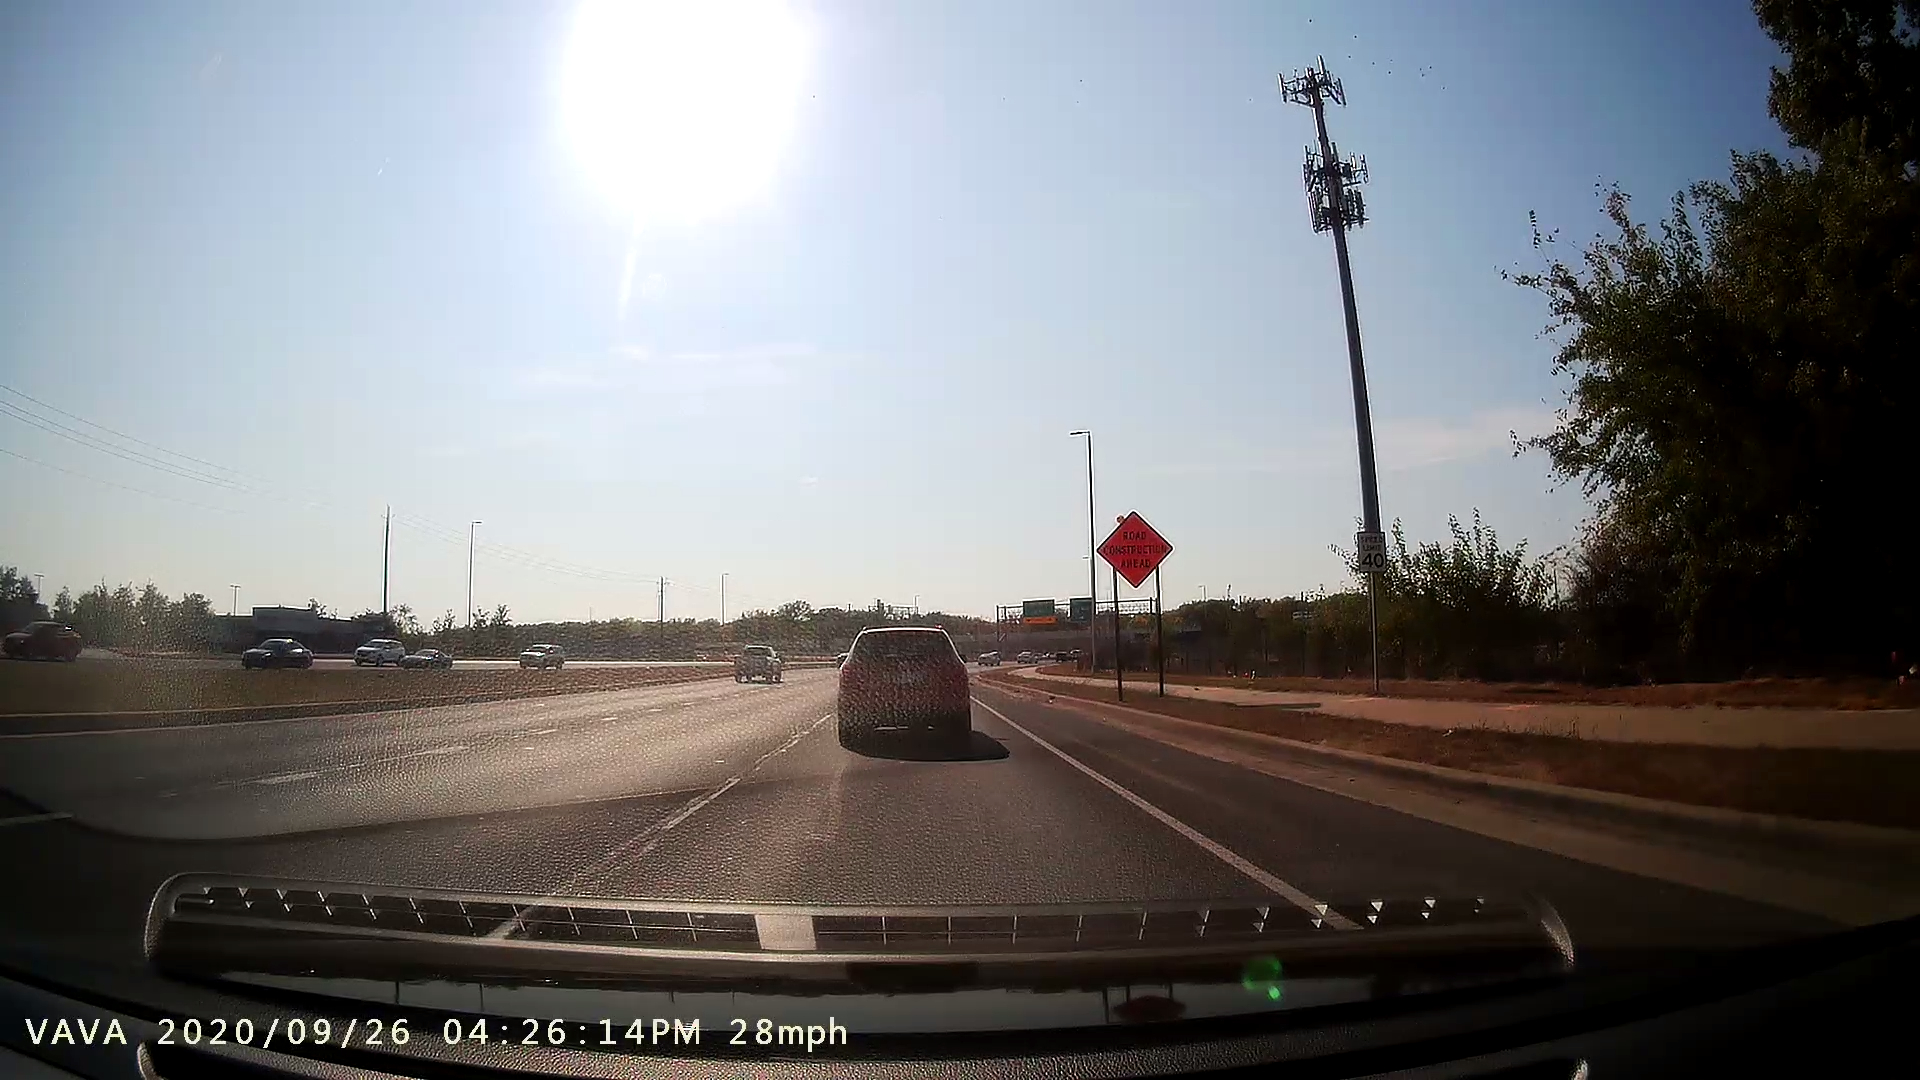ttcs_end_const: (1091, 493, 1196, 712)
